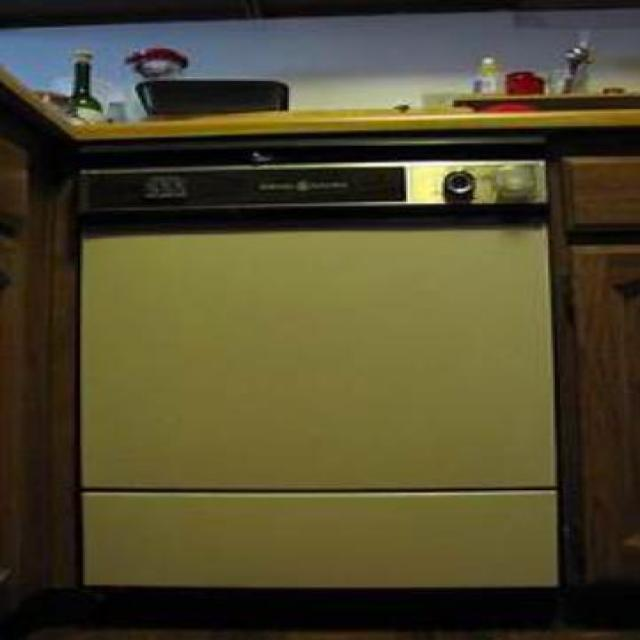dishwasher: (80, 156, 558, 588)
